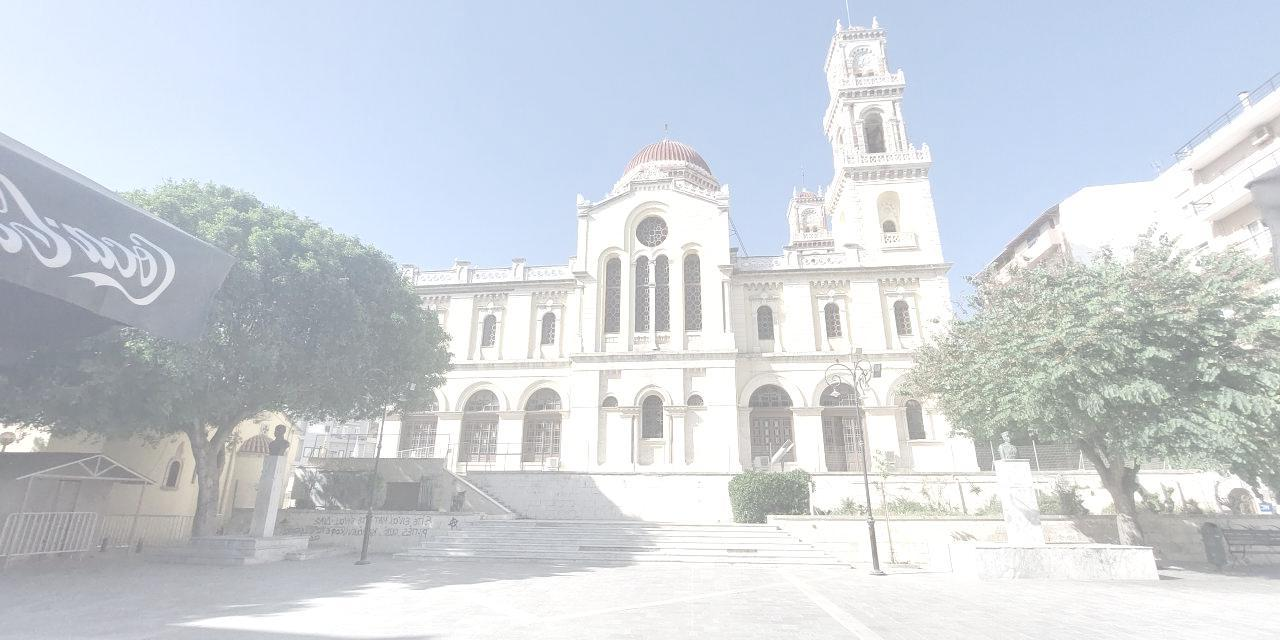Agios Minas: (373, 1, 980, 477)
